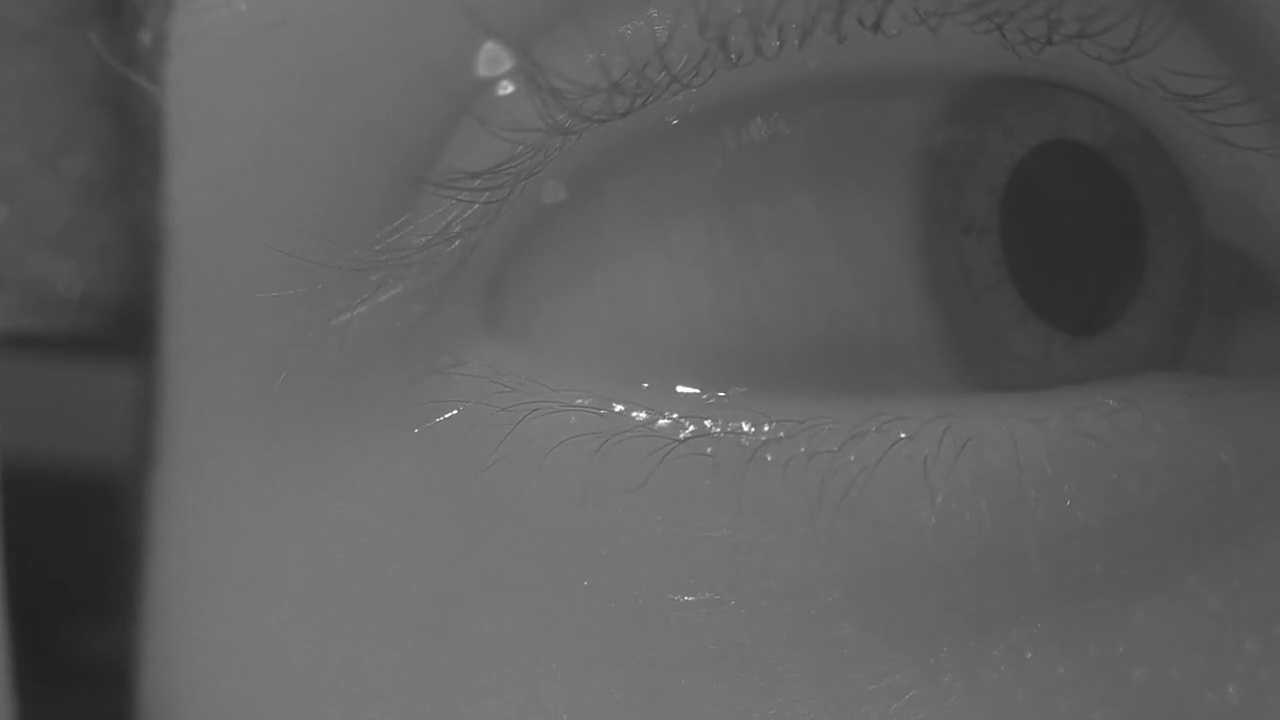pupil: (1000, 139, 1142, 335)
